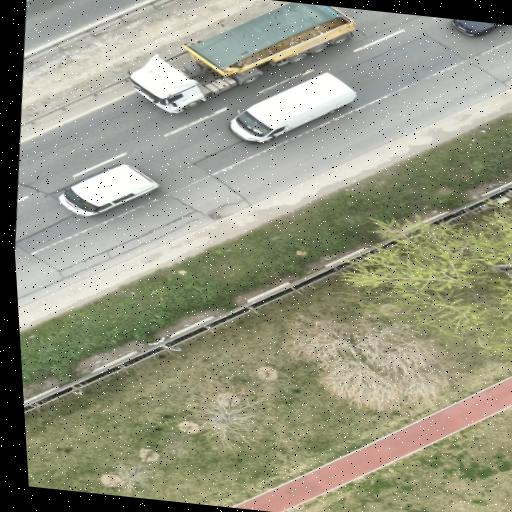car: (230, 73, 356, 142), (60, 165, 159, 216), (452, 19, 504, 36)
truck: (130, 2, 355, 113)
